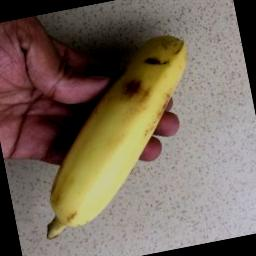Banana Ripe: (12, 20, 220, 247)
